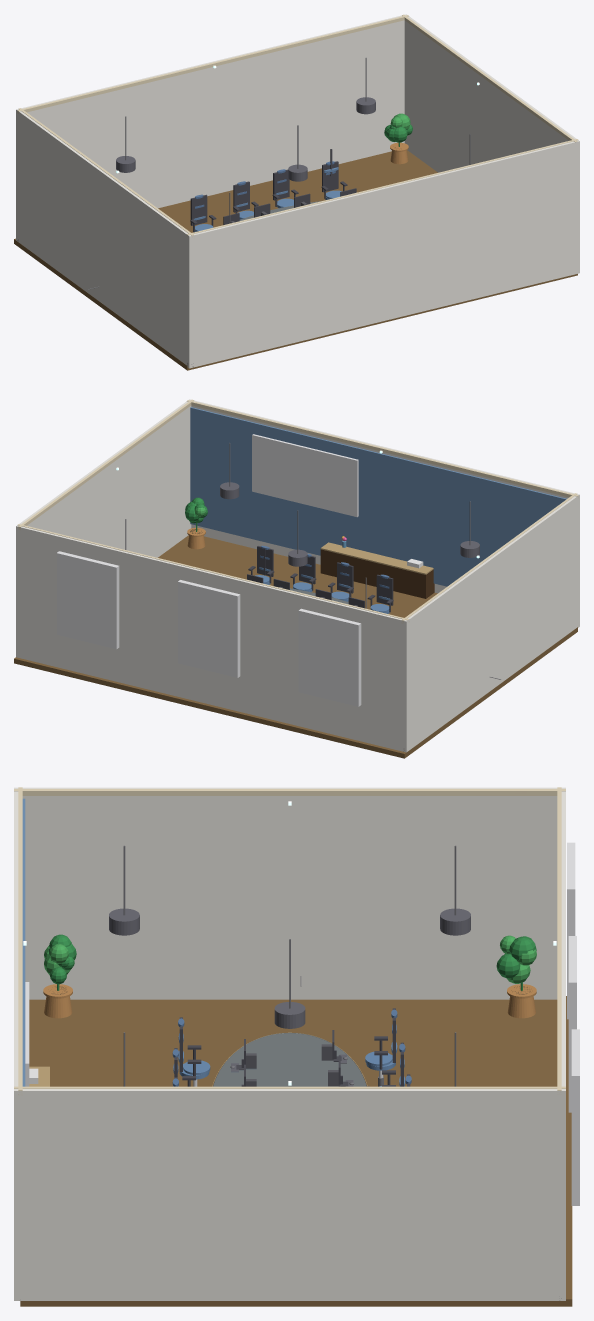
Rendered from meeting-room-iman.glb.
The picture shows the model from 3 angles, top to bottom: view 1: azimuth 30°, elevation 25°; view 2: azimuth 150°, elevation 25°; view 3: azimuth 270°, elevation 25°; orthographic projection. The views are drawn at different scales.
Parts seen in each view (by area): view 1: Wall_B, Wall_F, Wall_L, Wall_R, Floor_Main, Crown_F, Crown_R, Crown_B, Crown_L; view 2: Wall_F, AccentWall, Wall_L, Wall_R, Floor_Main, WF_B0, WF_F0, WF_F2, WF_F1, Wall_B, Credenza, Crown_B (+4 smaller); view 3: Wall_R, Wall_L, Floor_Main, Table_Top, Table_Glass, Crown_L, Wall_F, Wall_B, Crown_R, WF_F2, Crown_F, Crown_B (+6 smaller).
Boxes of the visible parts, x1,y1,x2,y2 form: Wall_B: (187, 141, 579, 368); Wall_F: (16, 14, 405, 241); Wall_L: (16, 109, 193, 368); Wall_R: (404, 14, 579, 274); Floor_Main: (14, 150, 577, 370); Crown_F: (17, 15, 408, 113); Crown_R: (402, 14, 577, 142); Crown_B: (186, 139, 578, 235); Crown_L: (18, 108, 194, 237); Wall_F: (16, 526, 408, 752); AccentWall: (190, 407, 566, 586); Wall_L: (402, 494, 579, 752); Wall_R: (16, 399, 191, 657); Floor_Main: (14, 535, 577, 758); WF_B0: (252, 434, 358, 517); WF_F0: (298, 608, 361, 706); WF_F2: (56, 551, 119, 649); WF_F1: (177, 580, 240, 677); Wall_B: (190, 399, 579, 627); Credenza: (320, 549, 434, 598); Crown_B: (187, 400, 578, 498); Wall_R: (14, 1089, 565, 1300); Wall_L: (14, 787, 565, 999); Floor_Main: (20, 996, 572, 1306); Table_Top: (213, 1033, 367, 1086); Table_Glass: (213, 1032, 366, 1086); Crown_L: (14, 789, 565, 795); Wall_F: (557, 788, 565, 1300); Wall_B: (14, 791, 22, 1300); Crown_R: (14, 1086, 565, 1088); WF_F2: (571, 1029, 579, 1205); Crown_F: (557, 787, 561, 1092); Crown_B: (18, 787, 22, 1094).
Size of the model in its own units: 13.38 by 4.32 by 10.25.
